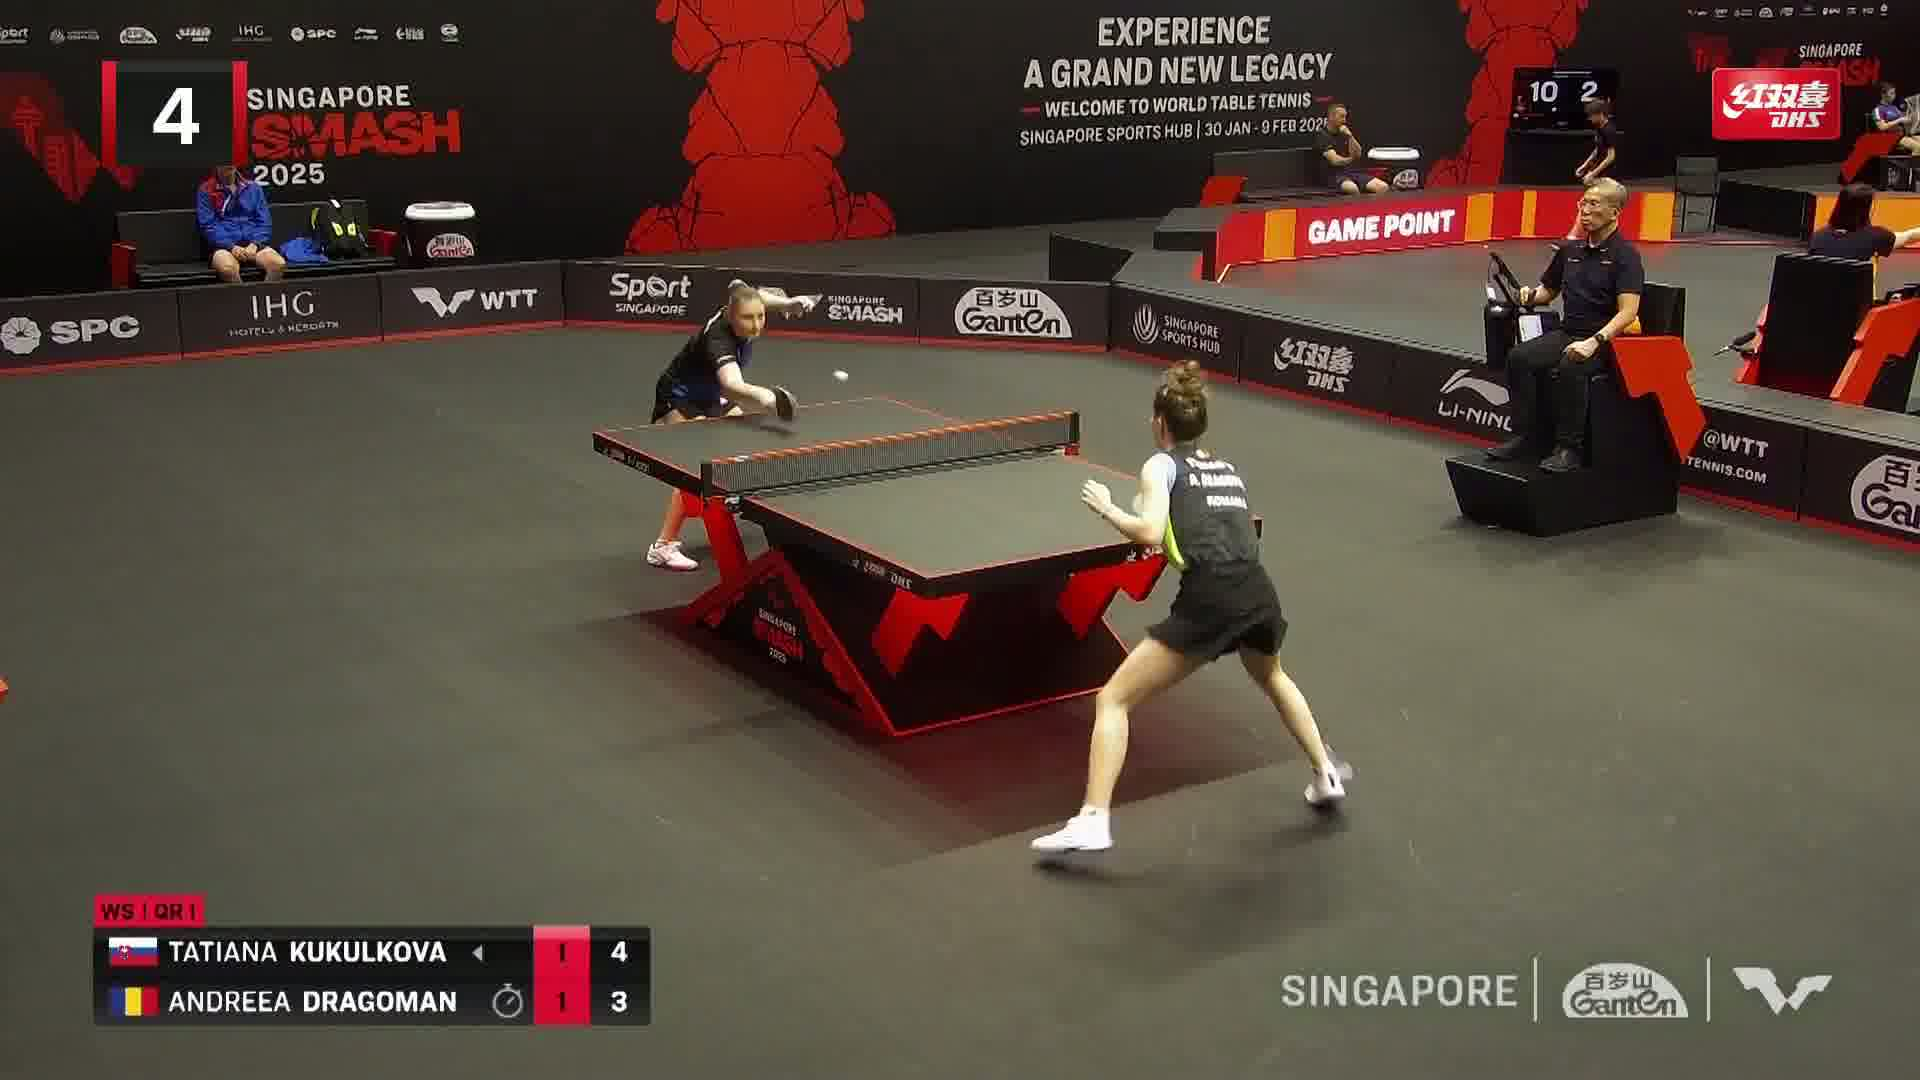table_tennis_ball: (832, 369, 848, 382)
